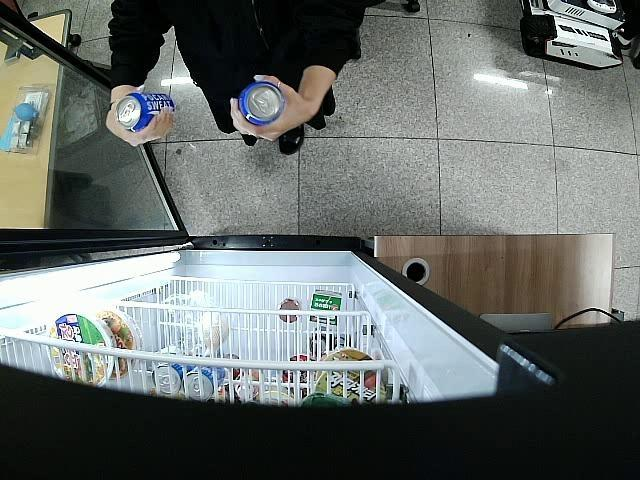13_pocariSweat: (115, 92, 175, 132), (240, 80, 286, 122)
